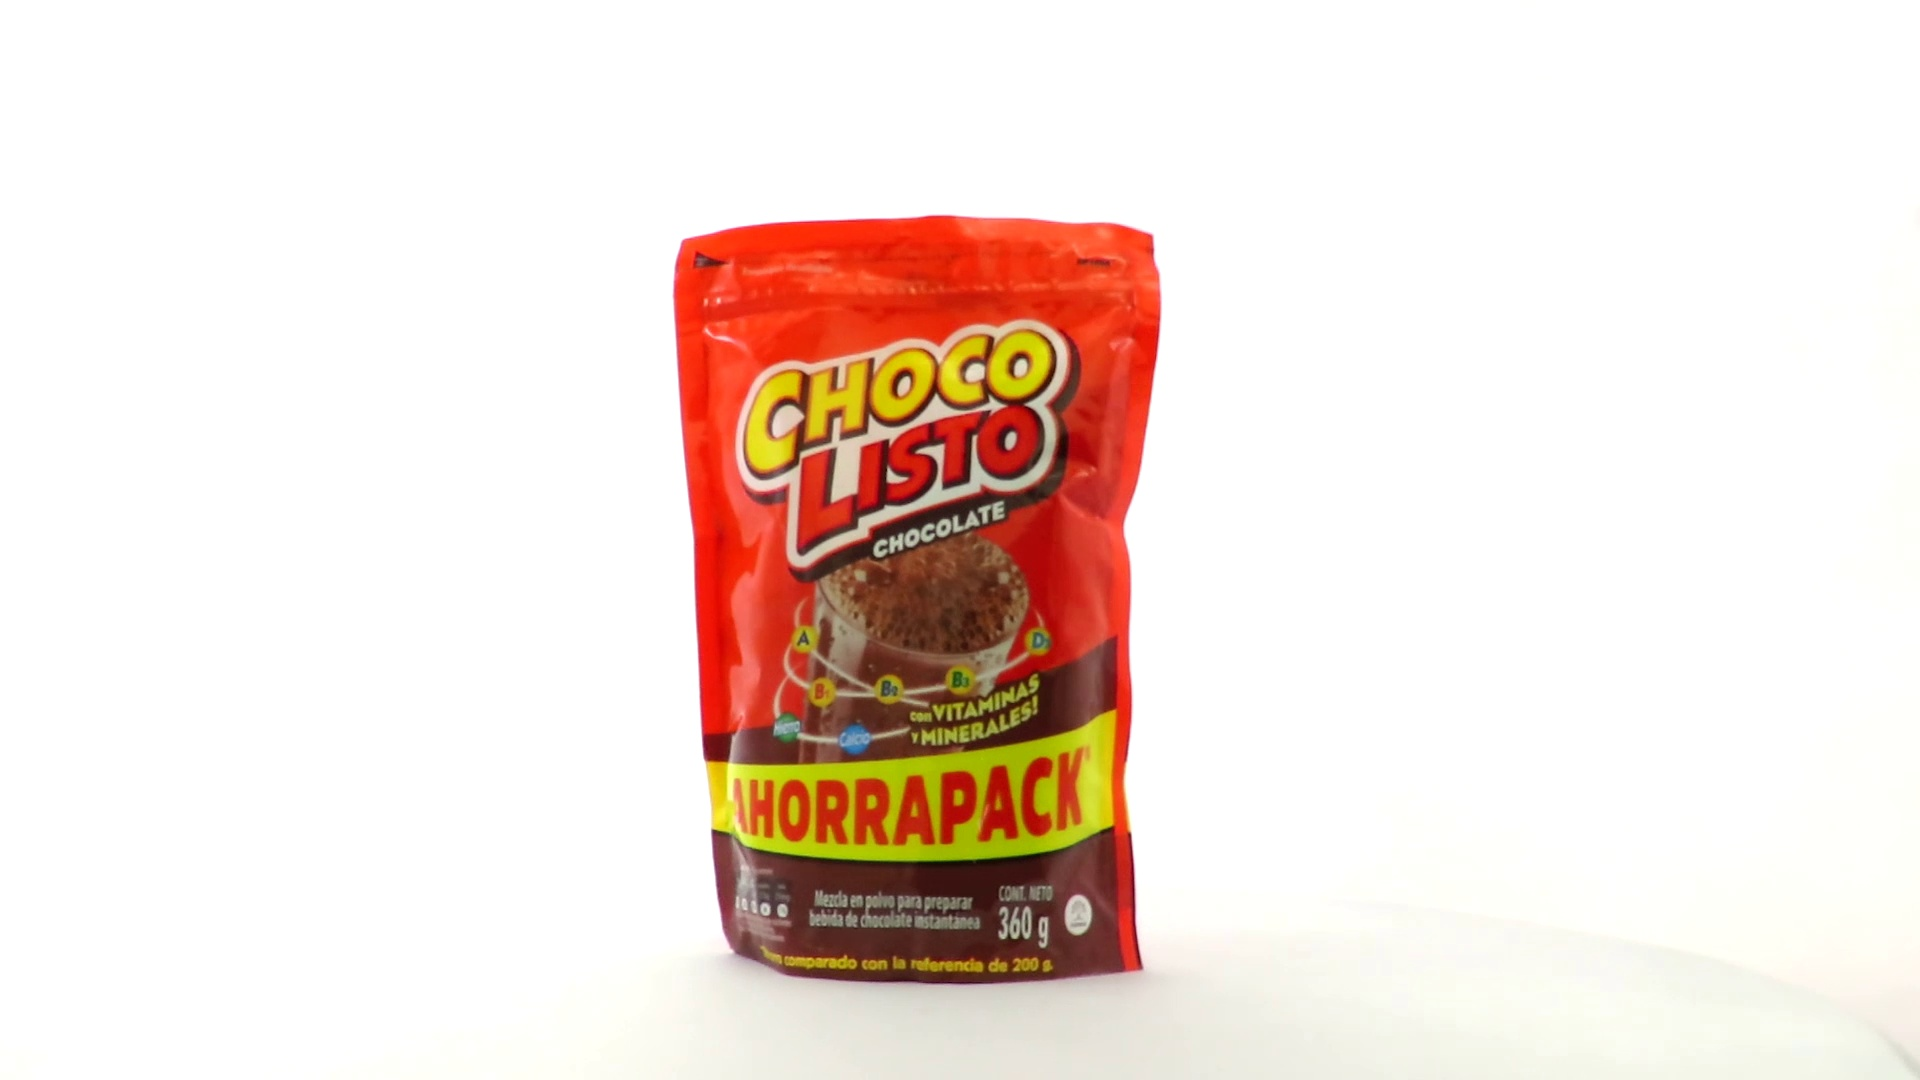COL0170103DYP36000: (669, 210, 1167, 992)
